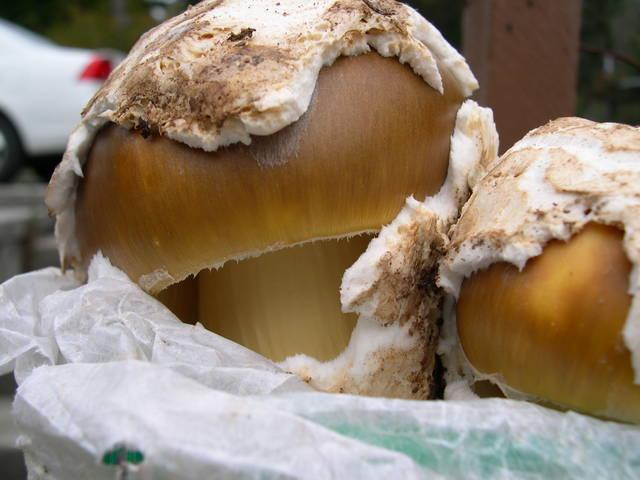edible_mushroom: (43, 0, 498, 398), (436, 114, 639, 425)
